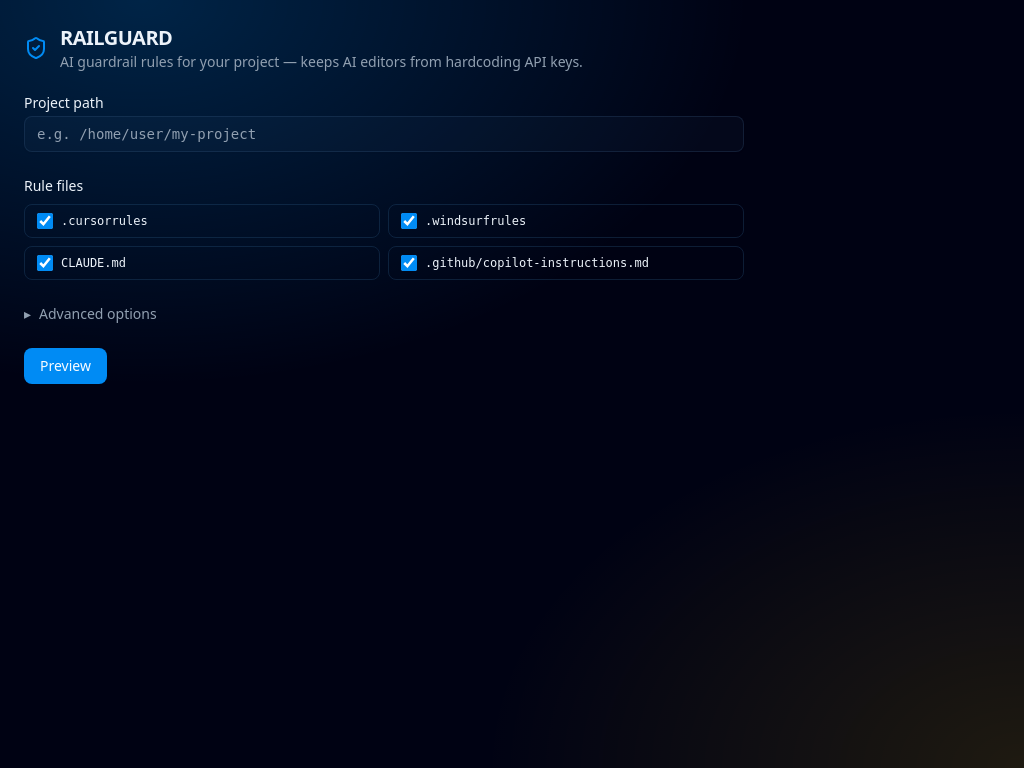
Test: RailguardPage › (d) preview 실패 시 에러 배너가 표시된다
This screenshot has width=1024, height=768.
Type "/home/user/proj" into the field with test id "railguard-path-input" at (384, 134), box [24, 116, 744, 152]
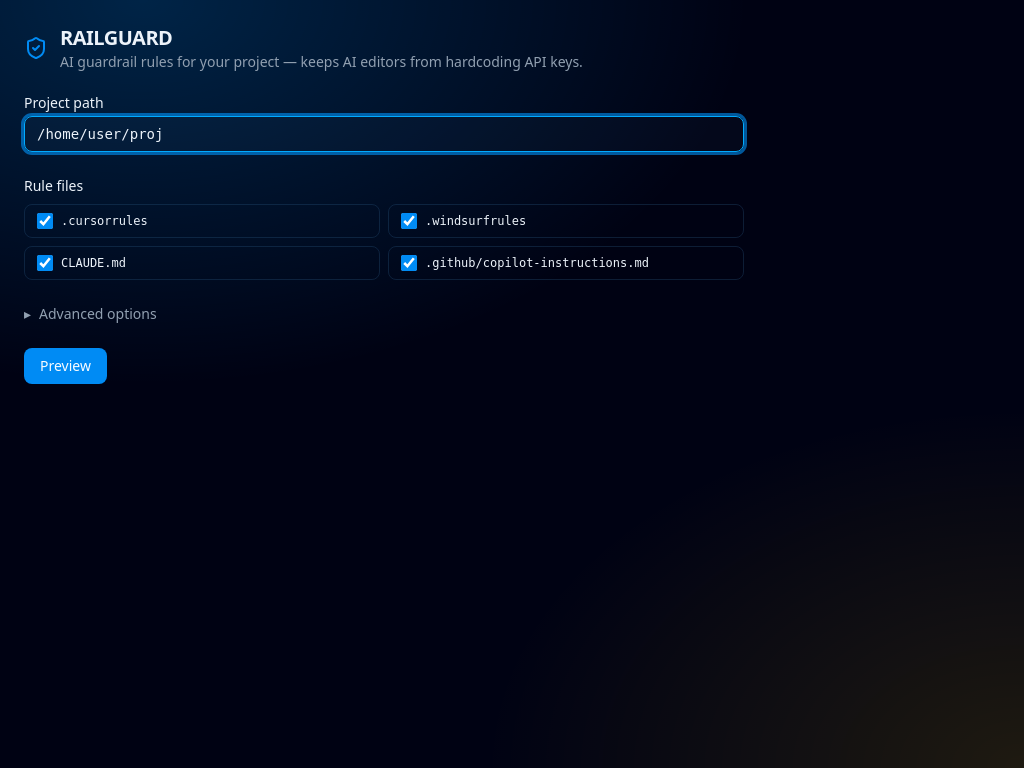
Click the button with test id "railguard-preview-btn" at (65, 366), box [24, 348, 107, 384]
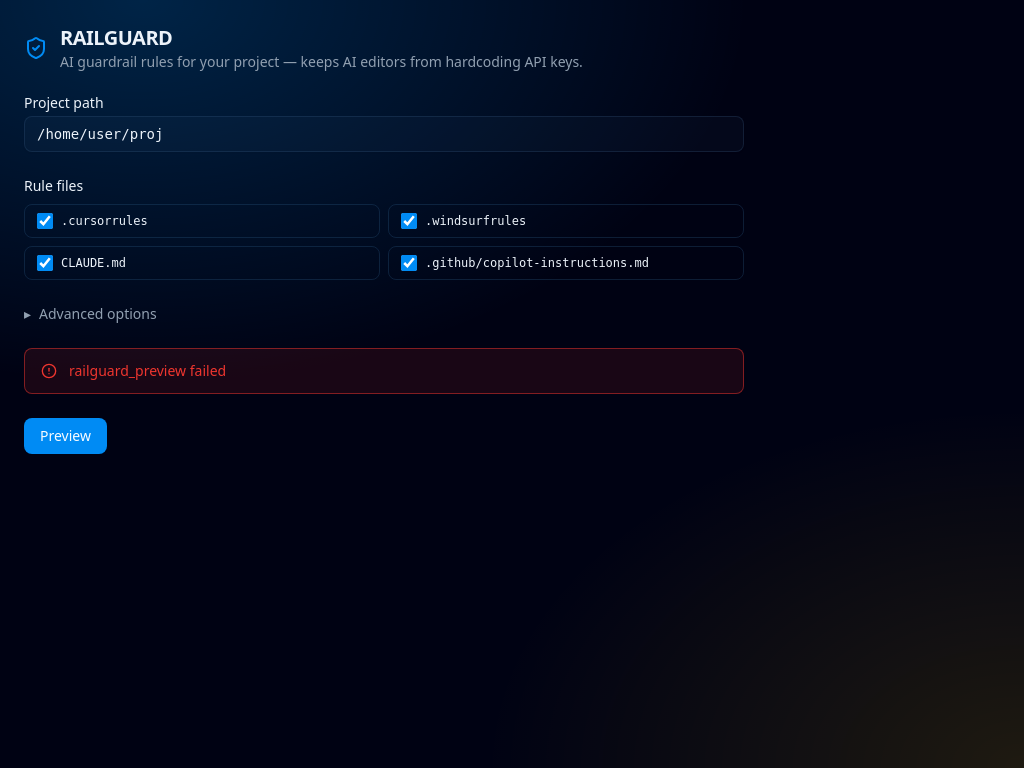
Expected: the message "railguard_preview failed" is shown, [24, 348, 744, 394]
Expected: the text "railguard_preview failed" is shown, [69, 361, 226, 381]
